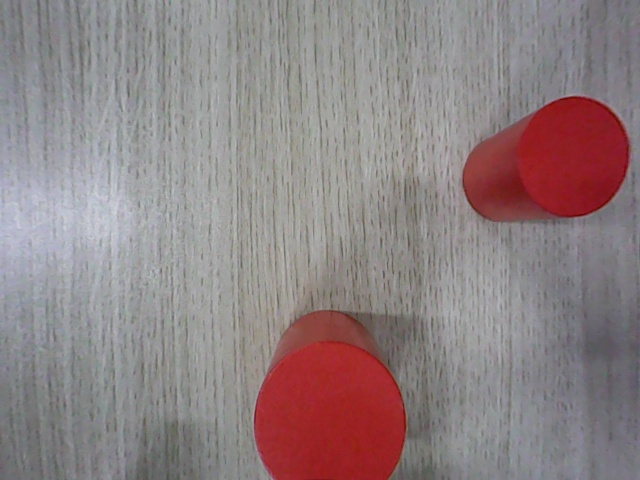upside of cylinder: (253, 342, 407, 479), (516, 96, 631, 217)
